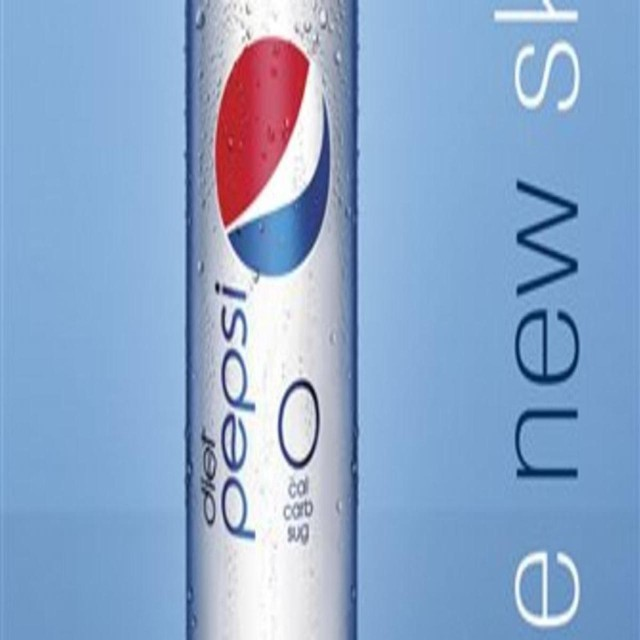pepsi: (215, 29, 330, 282)
